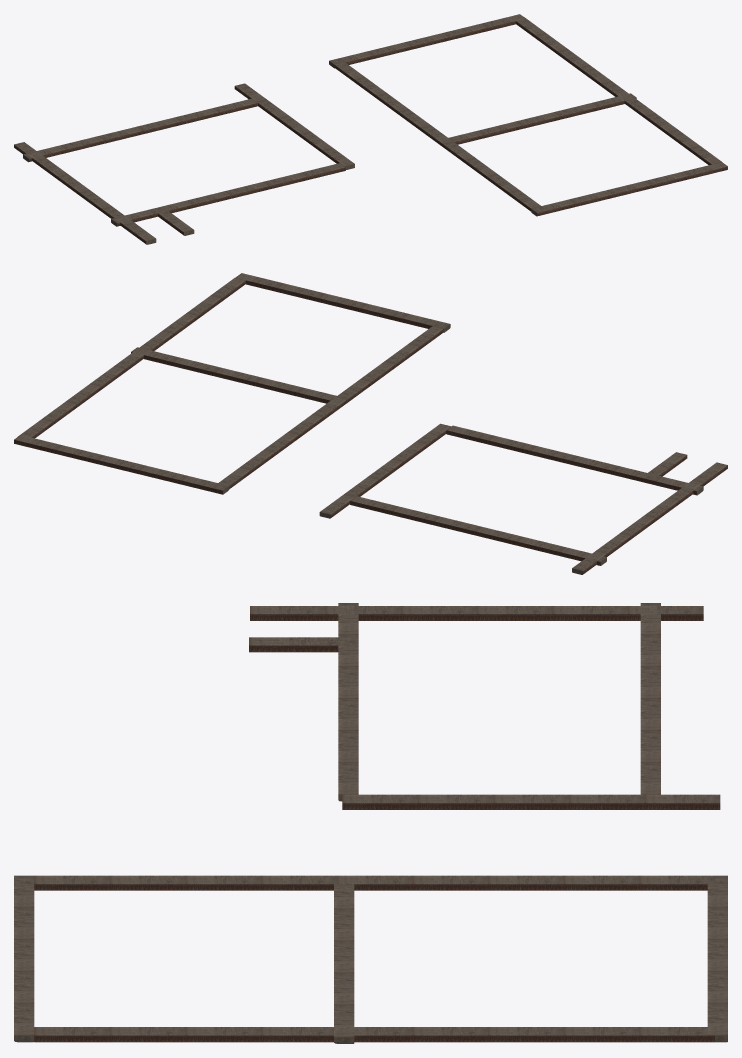
File: Celling_hall_office.fbx
3 views of the same model, one above another, from view 1: azimuth 30°, elevation 25°; view 2: azimuth 150°, elevation 25°; view 3: azimuth 270°, elevation 25° (orthographic). The views are drawn at different scales.
Visible parts, largest first — view 1: Cube.001, Cube.003, Cube.006, Cube.008, Cube.005, Cube.009, Cube.002, Cube.004, Cube.007, Cube.010; view 2: Cube.001, Cube.003, Cube.006, Cube.008, Cube.002, Cube.005, Cube.009, Cube.004, Cube.007; view 3: Cube.001, Cube.003, Cube.009, Cube.007, Cube.008, Cube.006, Cube.005, Cube.002, Cube.004, Cube.010.
Boxes of the visible parts, x1,y1,x2,y2 form: Cube.001: [333, 61, 540, 211]; Cube.003: [516, 17, 721, 164]; Cube.006: [23, 98, 257, 162]; Cube.008: [111, 163, 345, 226]; Cube.005: [531, 162, 727, 216]; Cube.009: [14, 142, 156, 244]; Cube.002: [329, 14, 525, 68]; Cube.004: [448, 93, 636, 144]; Cube.007: [234, 83, 354, 169]; Cube.010: [158, 207, 194, 235]; Cube.001: [216, 326, 443, 488]; Cube.003: [18, 278, 245, 438]; Cube.006: [350, 496, 606, 565]; Cube.008: [446, 425, 703, 495]; Cube.002: [14, 435, 229, 494]; Cube.005: [235, 273, 450, 332]; Cube.009: [572, 462, 727, 574]; Cube.004: [131, 347, 340, 403]; Cube.007: [319, 423, 451, 518]; Cube.001: [34, 875, 714, 890]; Cube.003: [34, 1027, 714, 1042]; Cube.009: [250, 606, 703, 620]; Cube.007: [342, 794, 720, 809]; Cube.008: [338, 603, 358, 801]; Cube.006: [640, 603, 660, 794]; Cube.005: [14, 875, 34, 1042]; Cube.002: [707, 875, 727, 1042]; Cube.004: [334, 884, 354, 1043]; Cube.010: [249, 637, 354, 652].
Size of the model in its own units: 37.28 by 0.2712 by 25.91.
